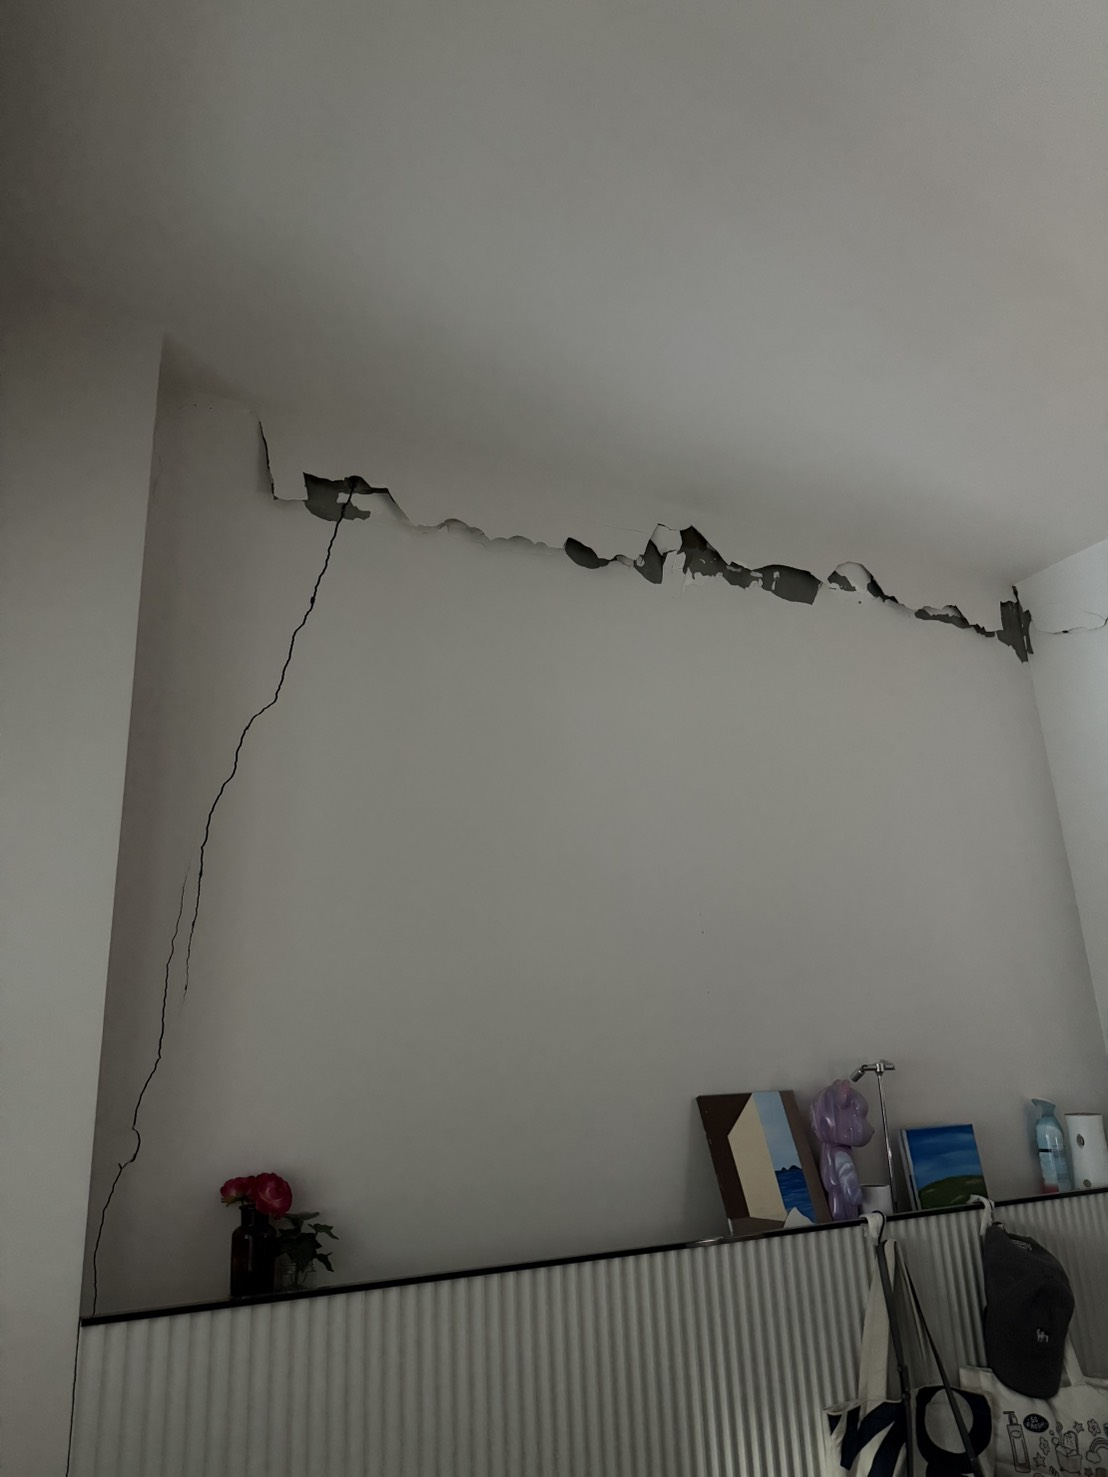Medium: (171, 395, 456, 1110)
